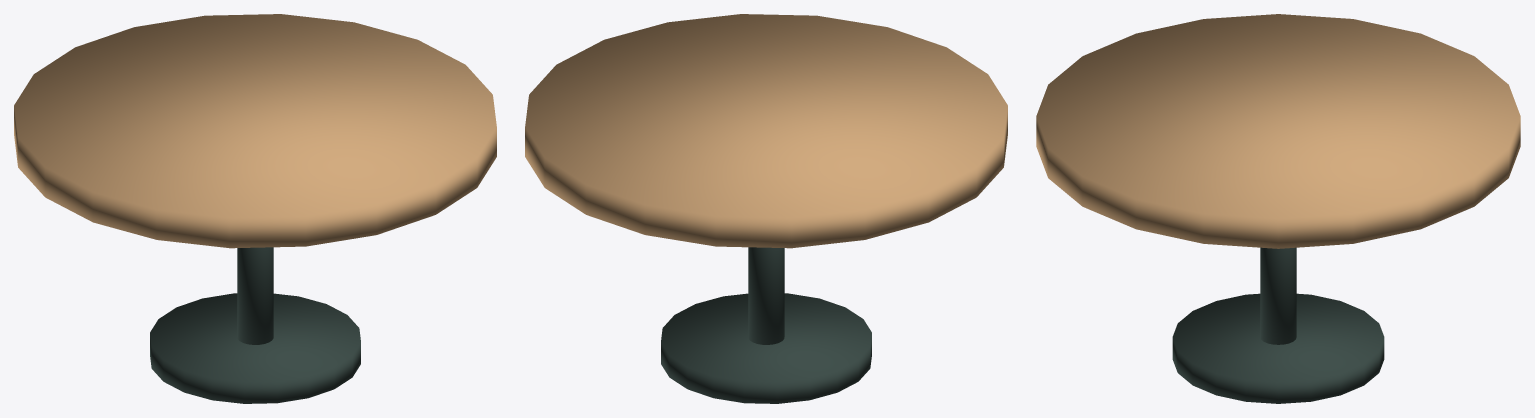
The model's file is table.glb.
The picture shows the model from 3 angles, left to right: view 1: azimuth 30°, elevation 25°; view 2: azimuth 150°, elevation 25°; view 3: azimuth 270°, elevation 25°; orthographic projection.
Visible parts, largest first — view 1: Tabletop, Table foot, Pedestal; view 2: Tabletop, Table foot, Pedestal; view 3: Tabletop, Table foot, Pedestal.
Boxes of the visible parts, x1,y1,x2,y2 form: Tabletop: (14, 14, 496, 248); Table foot: (150, 293, 360, 403); Pedestal: (237, 247, 273, 344); Tabletop: (525, 14, 1007, 248); Table foot: (661, 293, 871, 403); Pedestal: (748, 247, 784, 344); Tabletop: (1036, 14, 1520, 248); Table foot: (1172, 293, 1384, 403); Pedestal: (1260, 247, 1296, 344).
Bounding box in the file's own units: 1.6 × 0.885 × 1.6.
